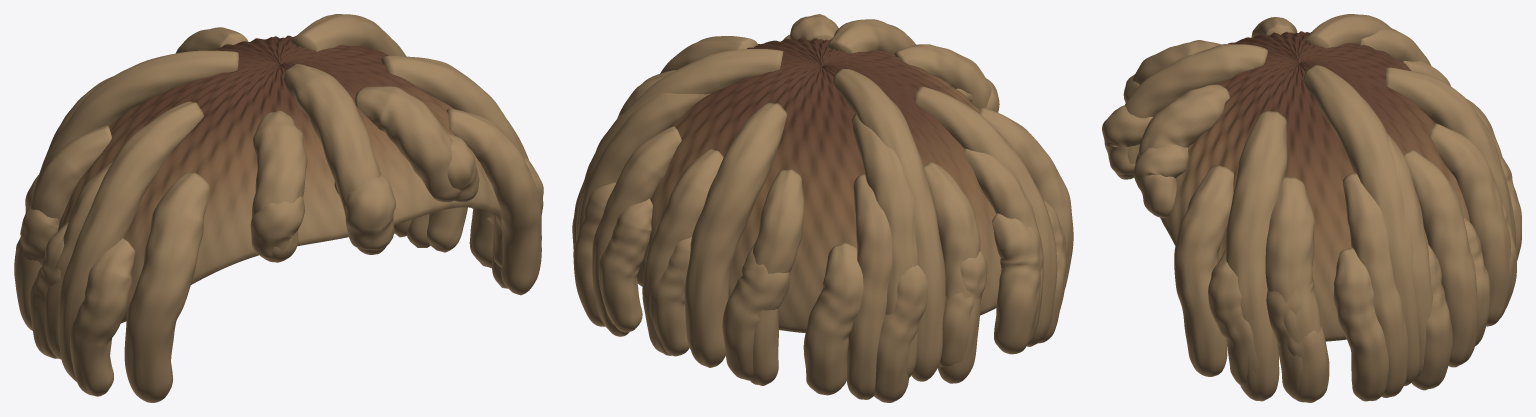
Rendered from Masculine-locs-hair260-ombre.glb.
The picture shows the model from 3 angles, left to right: view 1: azimuth 30°, elevation 25°; view 2: azimuth 150°, elevation 25°; view 3: azimuth 270°, elevation 25°; orthographic projection. The views are drawn at different scales.
Parts seen in each view (by area): view 1: 226 hair / Hair260 / mature compact locs; view 2: 226 hair / Hair260 / mature compact locs; view 3: 226 hair / Hair260 / mature compact locs.
Part boxes in pixels (x1=…): 226 hair / Hair260 / mature compact locs: x1=14, y1=14, x2=543, y2=402; 226 hair / Hair260 / mature compact locs: x1=572, y1=14, x2=1073, y2=402; 226 hair / Hair260 / mature compact locs: x1=1102, y1=14, x2=1521, y2=402.
Bounding box in the file's own units: 1.14 × 0.6578 × 0.9335.
